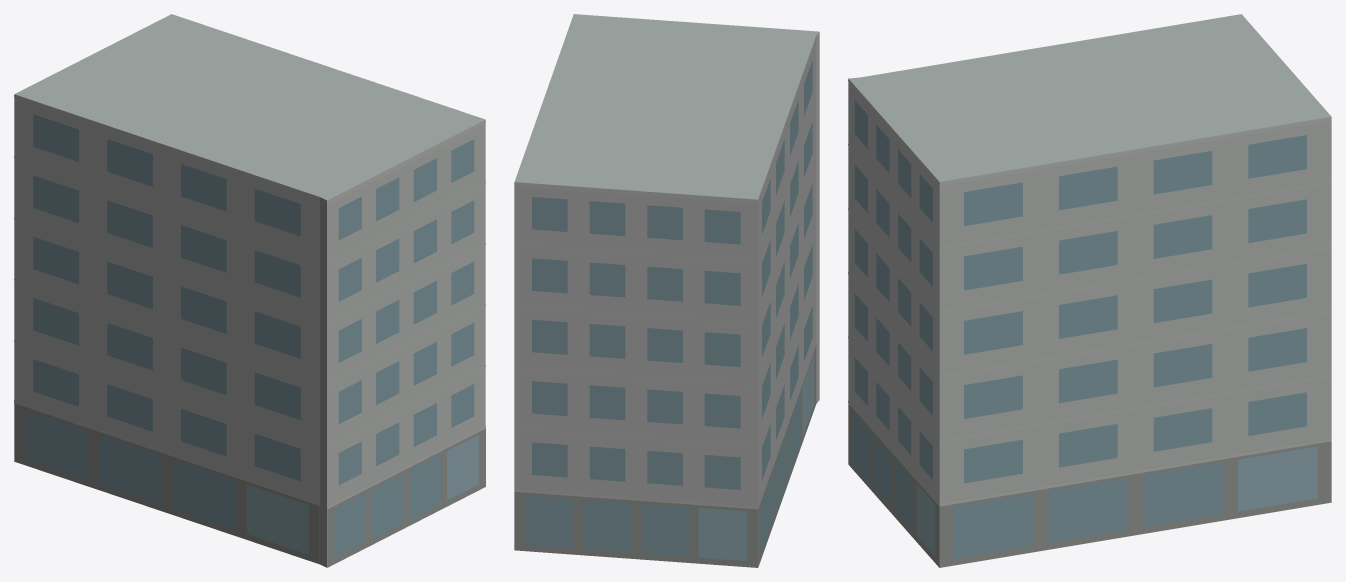
The model's file is survey-upis-32863132.glb.
3 renders of one model, left to right at view 1: azimuth 30°, elevation 25°; view 2: azimuth 150°, elevation 25°; view 3: azimuth 270°, elevation 25°, orthographic. The views are drawn at different scales.
Visible parts, largest first — view 1: survey-upis-32863132.tmp; view 2: survey-upis-32863132.tmp; view 3: survey-upis-32863132.tmp.
Part boxes in pixels (box(x1,y1,x2,y2)): survey-upis-32863132.tmp: box(14, 14, 485, 567); survey-upis-32863132.tmp: box(514, 14, 819, 567); survey-upis-32863132.tmp: box(848, 14, 1331, 567).
Size of the model in its own units: 19.89 by 21.27 by 24.17.
